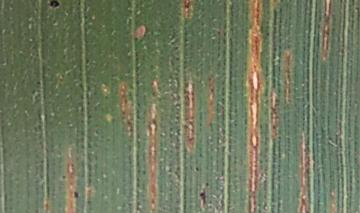tarspot: (49, 1, 62, 12), (70, 187, 81, 200), (199, 191, 206, 209), (59, 172, 70, 182), (203, 180, 210, 188), (195, 166, 201, 173)
